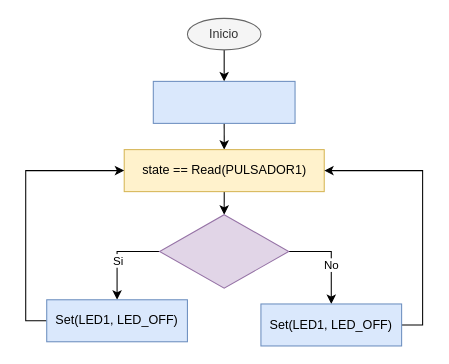
This 449x364 diagram has some shape labels left out. The shapes that lost their labels are listed below. From the top down, each one's centre as x and y in pixels, then its label:
At [223,101]: "BSP_Hardware_Init()".
At [224,251]: "¿state == BTN_PRESSED?".
